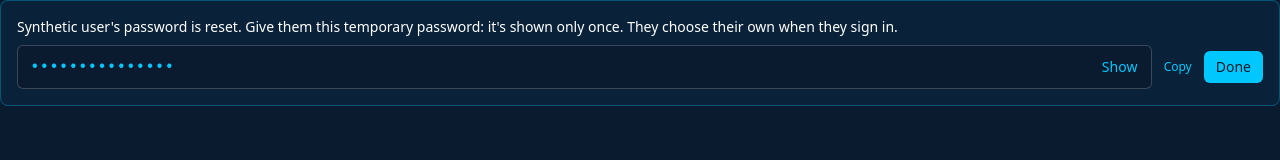
Test case: handles denied clipboard access without revealing the secret
Click the button "Copy". click: (1178, 67)
box: x1=1164 y1=59 x2=1192 y2=75
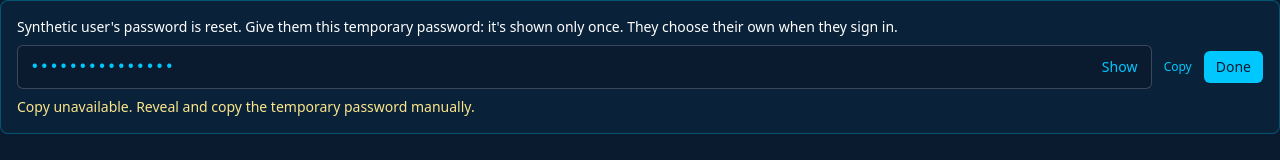
Check: the message does not show "Never-echo-this", box x1=17 y1=97 x2=475 y2=116
Check: the message shows "Copy unavailable", box x1=17 y1=97 x2=475 y2=116
